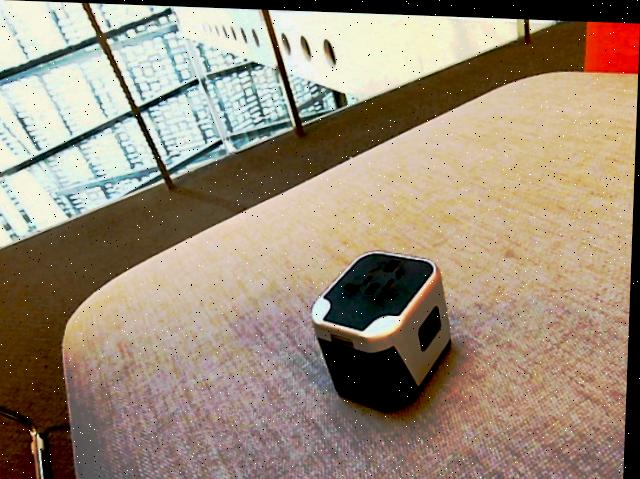adapter: (310, 245, 456, 410)
